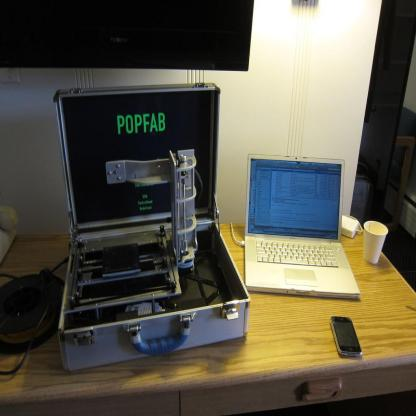board: (246, 155, 360, 298)
